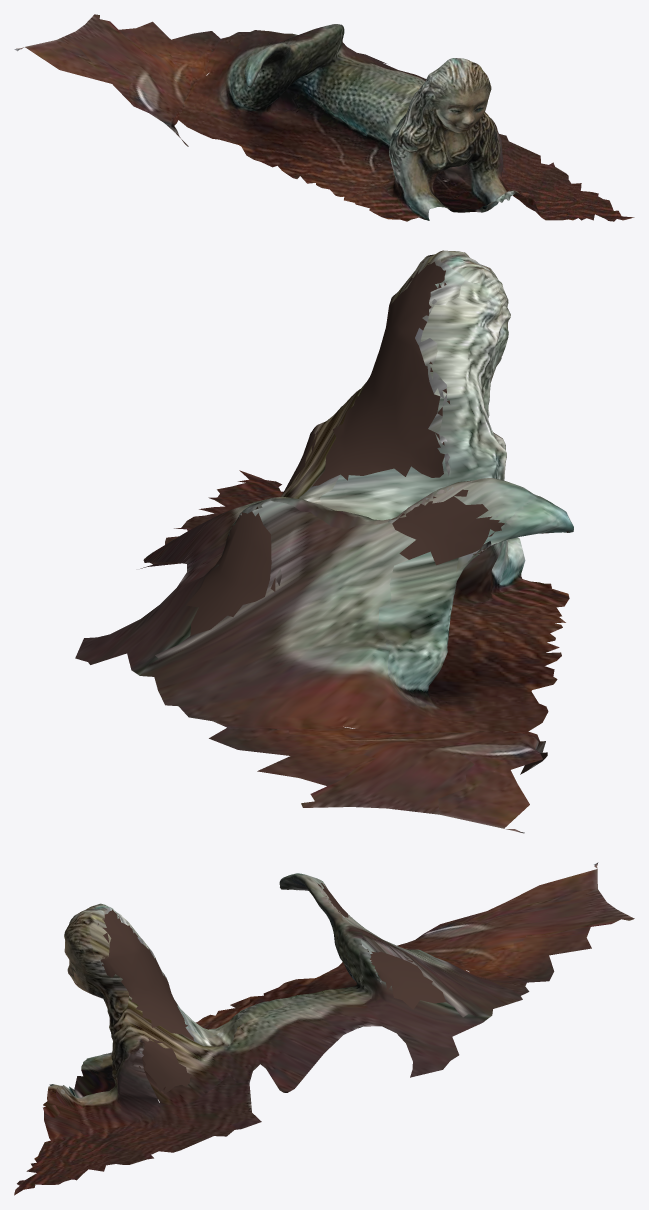
Rendered from meermin.glb.
The picture shows the model from 3 angles, top to bottom: view 1: azimuth 30°, elevation 25°; view 2: azimuth 150°, elevation 25°; view 3: azimuth 270°, elevation 25°; orthographic projection. The views are drawn at different scales.
Visible parts, largest first — view 1: meermin; view 2: meermin; view 3: meermin.
Boxes of the visible parts, bbox=[...] form: meermin: bbox=[14, 14, 634, 221]; meermin: bbox=[75, 250, 573, 833]; meermin: bbox=[14, 862, 634, 1195].
Size of the model in its own units: 26.03 by 10.9 by 30.01.
Materials: 1 (1 with a texture image).
